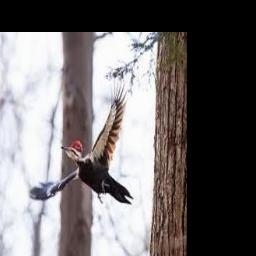Woodpecker: (29, 79, 133, 204)
